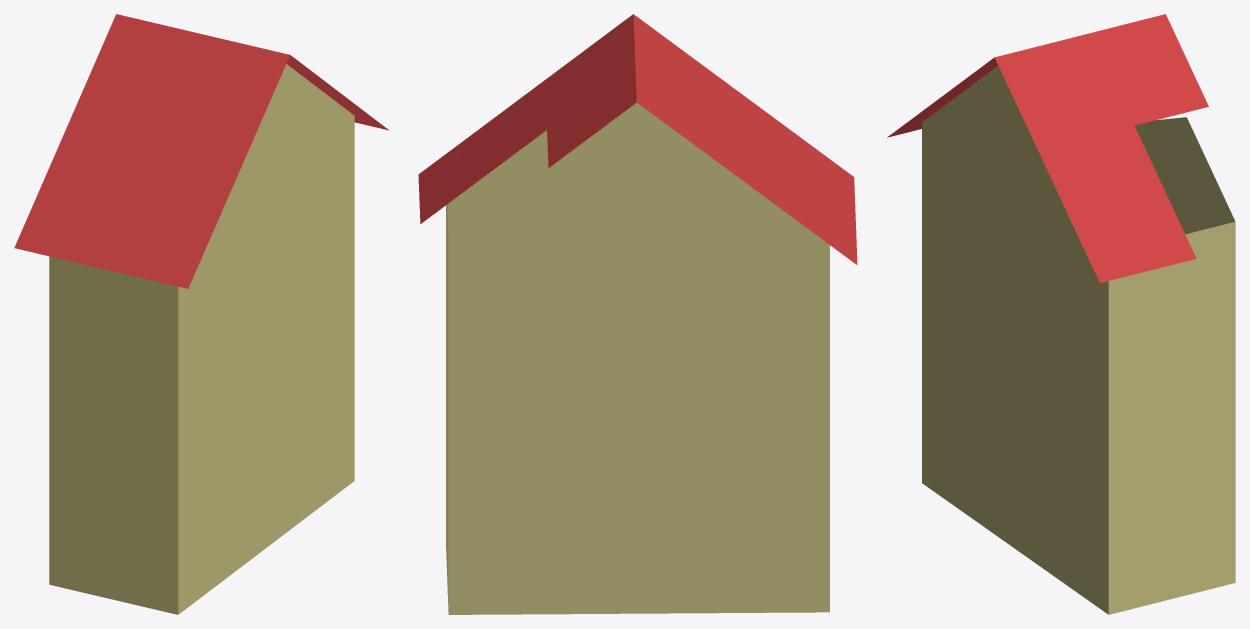
3 renders of one model, left to right at view 1: azimuth 30°, elevation 25°; view 2: azimuth 150°, elevation 25°; view 3: azimuth 270°, elevation 25°, orthographic. The views are drawn at different scales.
Bounding box in the file's own units: 8.85 × 6.73 × 10.61.
